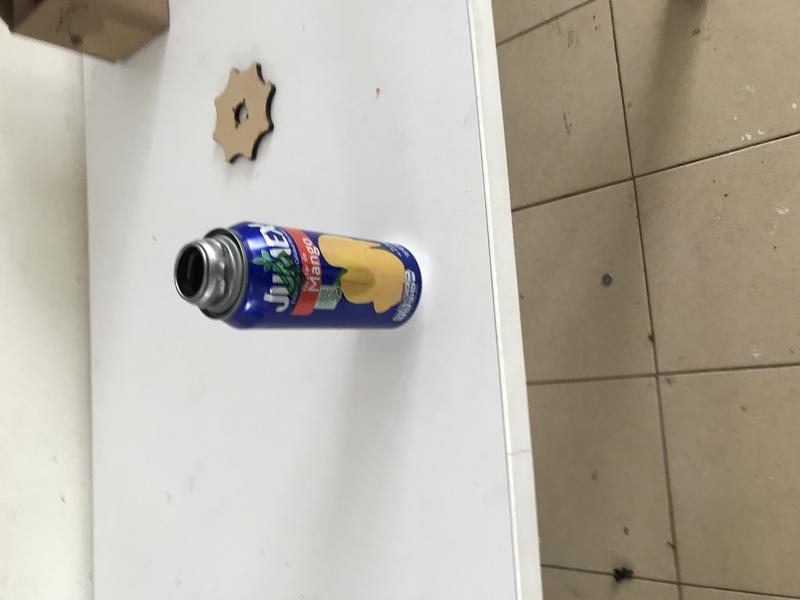jumex_botella: (172, 221, 424, 331)
